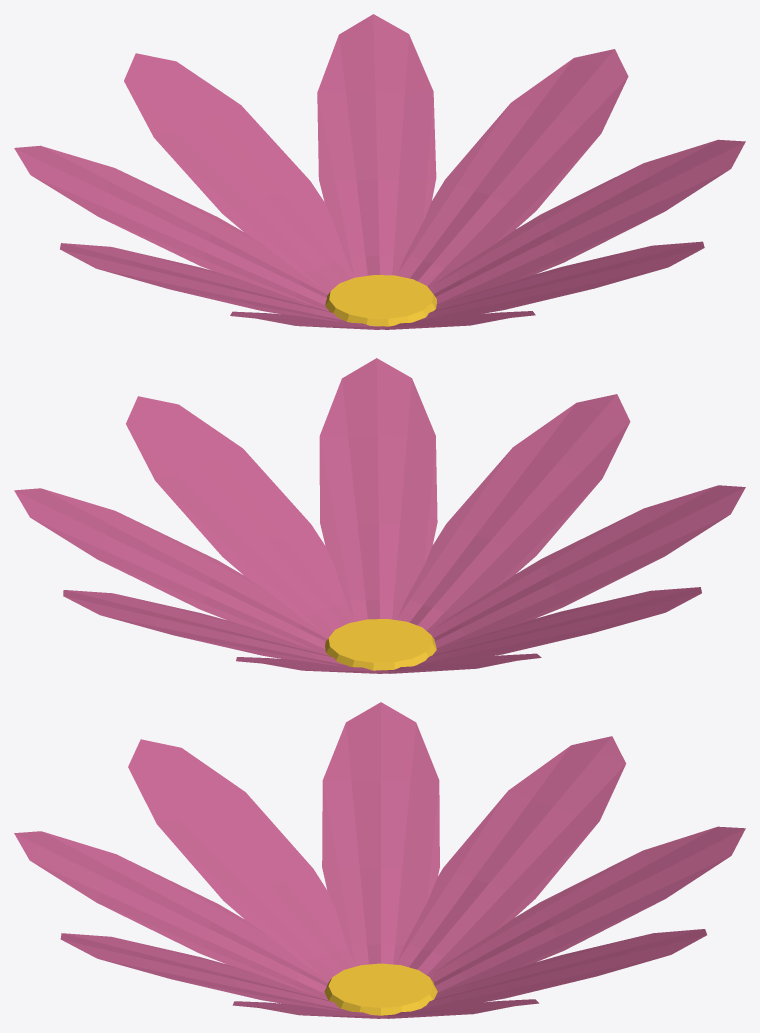
The model's file is flower2.fbx.
3 views of the same model, one above another, from view 1: azimuth 30°, elevation 25°; view 2: azimuth 150°, elevation 25°; view 3: azimuth 270°, elevation 25° (orthographic).
Visible parts, largest first — view 1: Circle, Circle.001; view 2: Circle, Circle.001; view 3: Circle, Circle.001.
Boxes of the visible parts, x1,y1,x2,y2 form: Circle: (14, 14, 745, 329); Circle.001: (325, 275, 436, 326); Circle: (14, 358, 745, 673); Circle.001: (325, 619, 436, 670); Circle: (14, 702, 745, 1018); Circle.001: (324, 963, 437, 1015).
Size of the model in its own units: 156 by 36.66 by 158.
